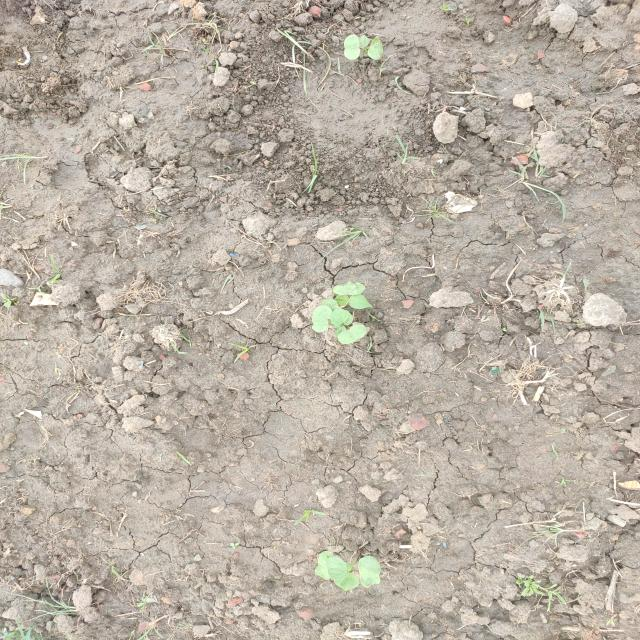seedling_s4: (359, 556, 381, 588), (326, 555, 353, 580), (311, 305, 332, 333), (314, 551, 334, 580), (338, 325, 367, 344), (330, 306, 353, 326), (334, 573, 359, 591), (333, 281, 365, 295), (344, 35, 360, 60), (367, 36, 383, 60), (349, 294, 373, 309), (329, 322, 346, 338), (321, 298, 338, 311), (334, 295, 349, 306), (359, 35, 370, 48)
